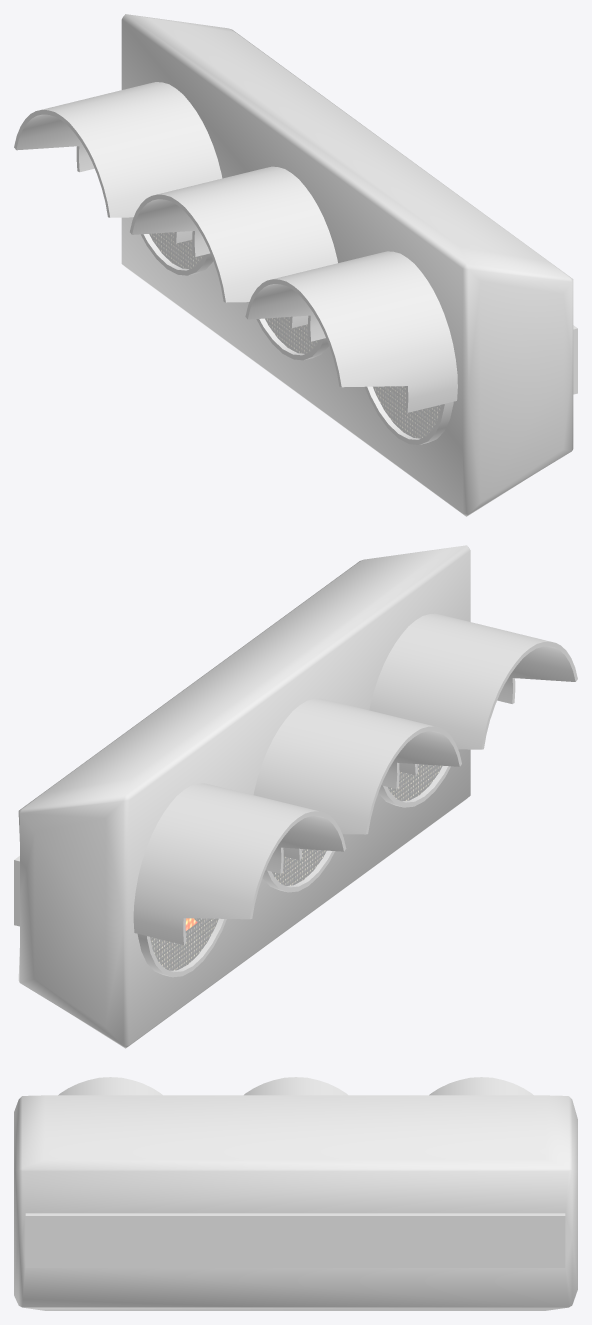
Rendered from 横向左转灯_RedLight.glb.
The picture shows the model from 3 angles, top to bottom: view 1: azimuth 30°, elevation 25°; view 2: azimuth 150°, elevation 25°; view 3: azimuth 270°, elevation 25°; orthographic projection. The views are drawn at different scales.
Parts seen in each view (by area): view 1: 横向左转灯_RedLight; view 2: 横向左转灯_RedLight; view 3: 横向左转灯_RedLight.
Boxes of the visible parts, <box> form: 横向左转灯_RedLight: <box>14,14,577,516</box>; 横向左转灯_RedLight: <box>14,545,577,1048</box>; 横向左转灯_RedLight: <box>14,1077,577,1310</box>.
Bounding box in the file's own units: 0.6 × 0.65 × 1.58.
3 materials, 2 textured.
